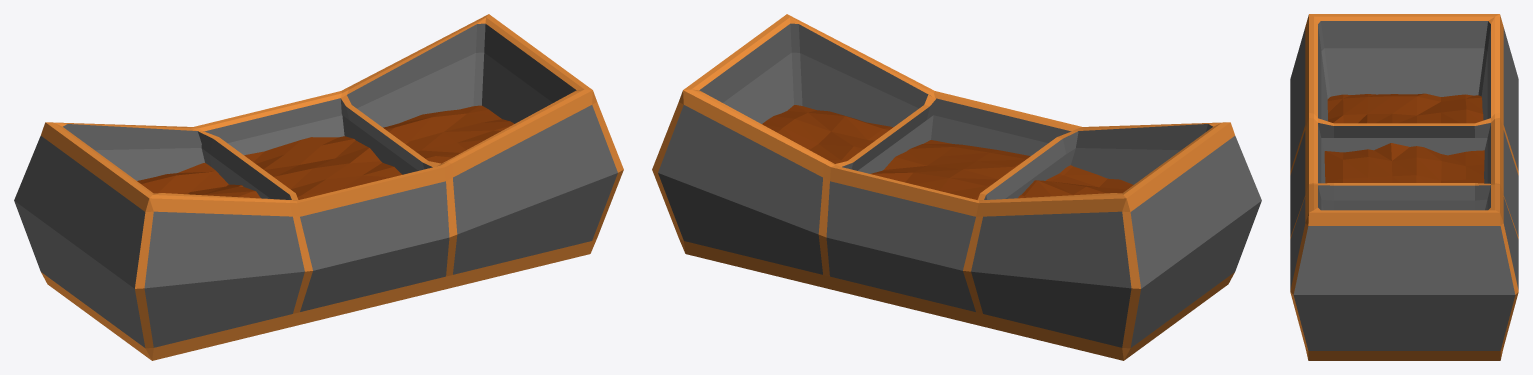
The model's file is crop plot.fbx.
3 renders of one model, left to right at view 1: azimuth 30°, elevation 25°; view 2: azimuth 150°, elevation 25°; view 3: azimuth 270°, elevation 25°, orthographic. The views are drawn at different scales.
Parts seen in each view (by area): view 1: Plane; view 2: Plane; view 3: Plane.
Boxes of the visible parts, x1,y1,x2,y2 form: Plane: (14,14,623,360); Plane: (652,14,1261,360); Plane: (1290,14,1518,360).
Bounding box in the file's own units: 628 × 200 × 277.
